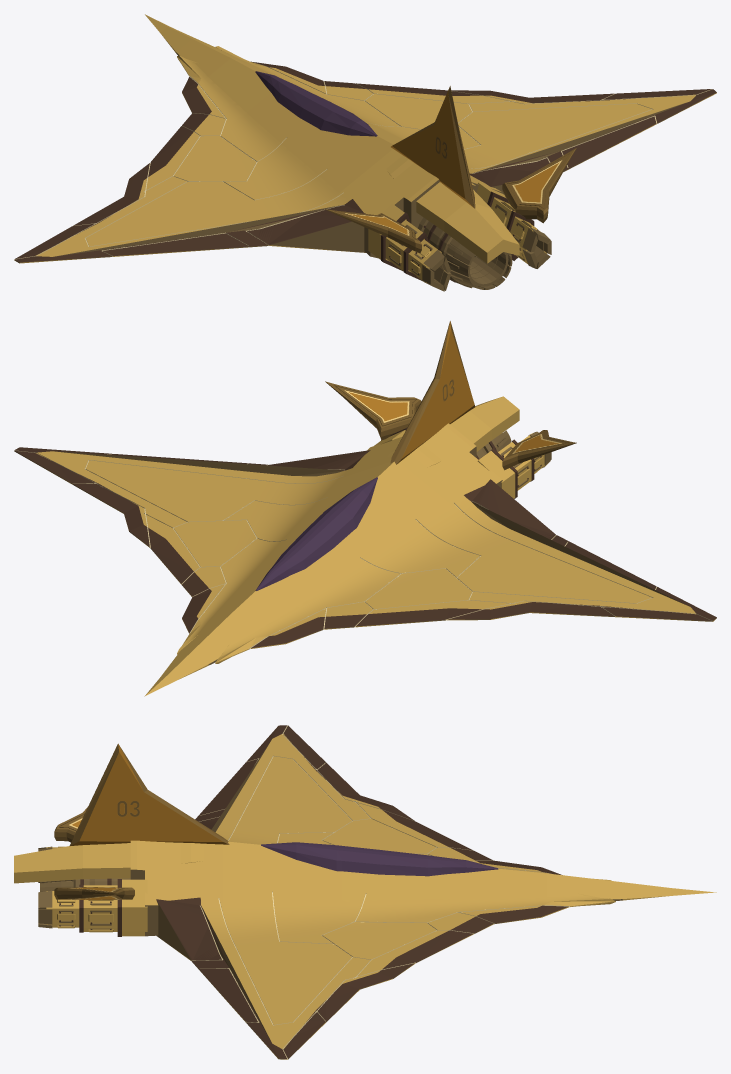
File: A_gold_prism.glb
The picture shows the model from 3 angles, top to bottom: view 1: azimuth 30°, elevation 25°; view 2: azimuth 150°, elevation 25°; view 3: azimuth 270°, elevation 25°; orthographic projection. The views are drawn at different scales.
Parts seen in each view (by area): view 1: AF_MAIN_WING_JOINED_01, AF_BODY_01, AF_MATCH_AFT_SADDLE, AF_TAIL_CENTER_01, AF_DOME_CENTER_01, AF_REAR_WING_R1_R_reference_kite_outward_canted, AF_PENTAGON_L_STEPPED_HOUSING, AF_REAR_WING_R1_R_reference_kite_outward_canted_L, AF_ENGINE_THERMAL_LINER, AF_PENTAGON_R_STEPPED_HOUSING; view 2: AF_MAIN_WING_JOINED_01, AF_BODY_01, AF_TAIL_CENTER_01, AF_DOME_CENTER_01, AF_MATCH_AFT_SADDLE, AF_REAR_WING_R1_R_reference_kite_outward_canted, AF_REAR_WING_R1_R_reference_kite_outward_canted_L, AF_PENTAGON_L_STEPPED_HOUSING; view 3: AF_MAIN_WING_JOINED_01, AF_TAIL_CENTER_01, AF_DOME_CENTER_01, AF_MATCH_AFT_SADDLE, AF_PENTAGON_R_STEPPED_HOUSING, AF_REAR_WING_R1_R_reference_kite_outward_canted.
Part boxes in pixels (<box>): AF_MAIN_WING_JOINED_01: <box>14,14,716,263</box>; AF_BODY_01: <box>145,14,476,258</box>; AF_MATCH_AFT_SADDLE: <box>386,155,519,263</box>; AF_TAIL_CENTER_01: <box>391,86,475,208</box>; AF_DOME_CENTER_01: <box>255,71,377,136</box>; AF_REAR_WING_R1_R_reference_kite_outward_canted: <box>502,148,576,223</box>; AF_PENTAGON_L_STEPPED_HOUSING: <box>368,203,444,282</box>; AF_REAR_WING_R1_R_reference_kite_outward_canted_L: <box>325,209,421,252</box>; AF_ENGINE_THERMAL_LINER: <box>453,242,508,286</box>; AF_PENTAGON_R_STEPPED_HOUSING: <box>476,182,547,263</box>; AF_MAIN_WING_JOINED_01: <box>14,436,716,696</box>; AF_BODY_01: <box>145,423,502,695</box>; AF_TAIL_CENTER_01: <box>390,321,475,464</box>; AF_DOME_CENTER_01: <box>255,477,377,590</box>; AF_MATCH_AFT_SADDLE: <box>386,396,519,467</box>; AF_REAR_WING_R1_R_reference_kite_outward_canted: <box>325,381,421,440</box>; AF_REAR_WING_R1_R_reference_kite_outward_canted_L: <box>502,430,576,470</box>; AF_PENTAGON_L_STEPPED_HOUSING: <box>477,433,547,498</box>; AF_MAIN_WING_JOINED_01: <box>130,725,716,1059</box>; AF_TAIL_CENTER_01: <box>69,743,229,845</box>; AF_DOME_CENTER_01: <box>261,842,498,876</box>; AF_MATCH_AFT_SADDLE: <box>14,842,203,883</box>; AF_PENTAGON_R_STEPPED_HOUSING: <box>46,879,147,936</box>; AF_REAR_WING_R1_R_reference_kite_outward_canted: <box>54,887,134,899</box>.
Size of the model in its own units: 14.65 by 3.93 by 13.03.
Materials: 18 (5 with a texture image).
